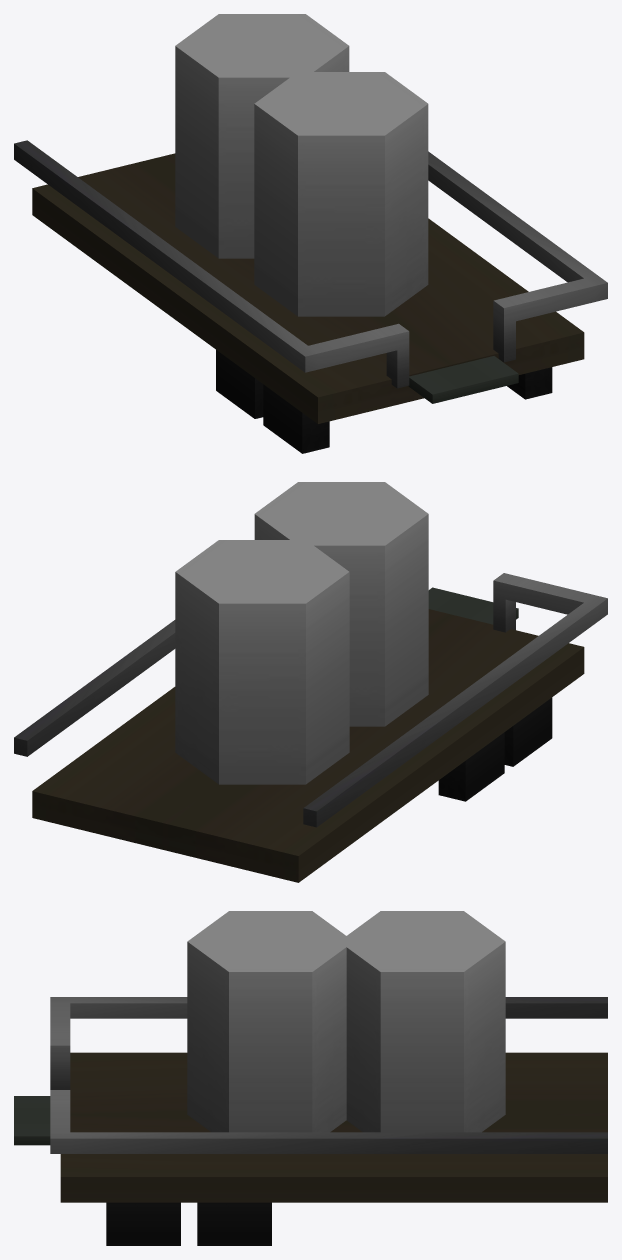
The model's file is train_half_fuel_placeholder_v011 1.fbx.
3 renders of one model, top to bottom at view 1: azimuth 30°, elevation 25°; view 2: azimuth 150°, elevation 25°; view 3: azimuth 270°, elevation 25°, orthographic. The views are drawn at different scales.
Visible parts, largest first — view 1: base plattform v1, fuel v1; view 2: base plattform v1, fuel v1; view 3: base plattform v1, fuel v1.
Boxes of the visible parts, x1,y1,x2,y2 form: base plattform v1: (14,140,607,453); fuel v1: (175,14,428,316); base plattform v1: (14,573,607,882); fuel v1: (175,482,428,784); base plattform v1: (14,997,607,1245); fuel v1: (187,911,505,1132).
Size of the model in its own units: 336 by 596 by 272.
Materials: 3 (3 with a texture image).
